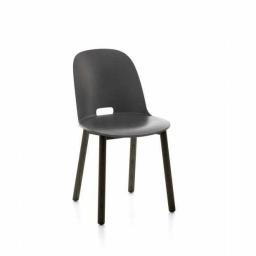Chair: (72, 50, 177, 227)
